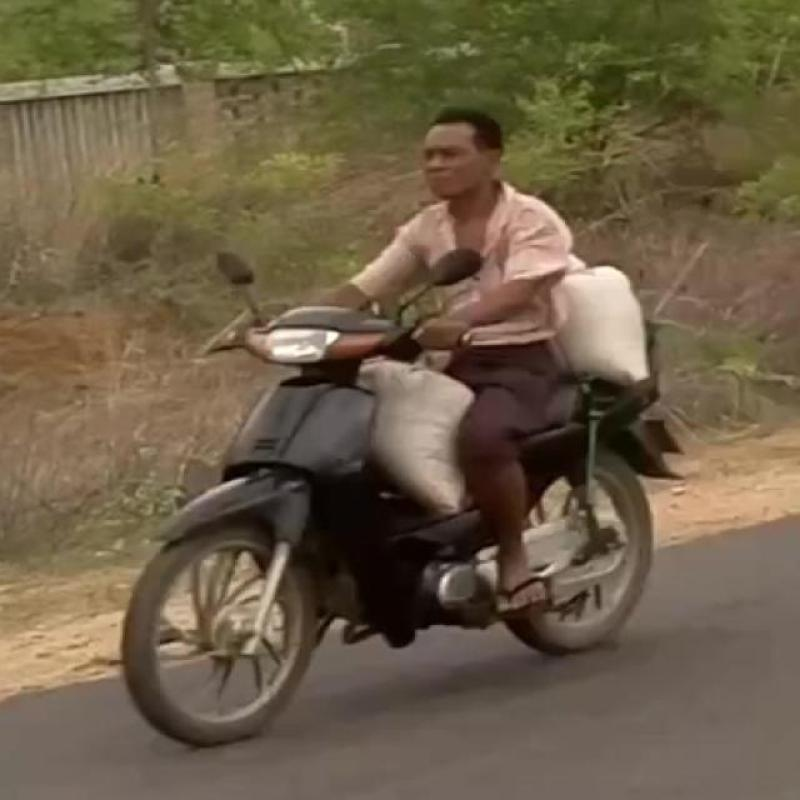nohelmet: (380, 92, 546, 230)
